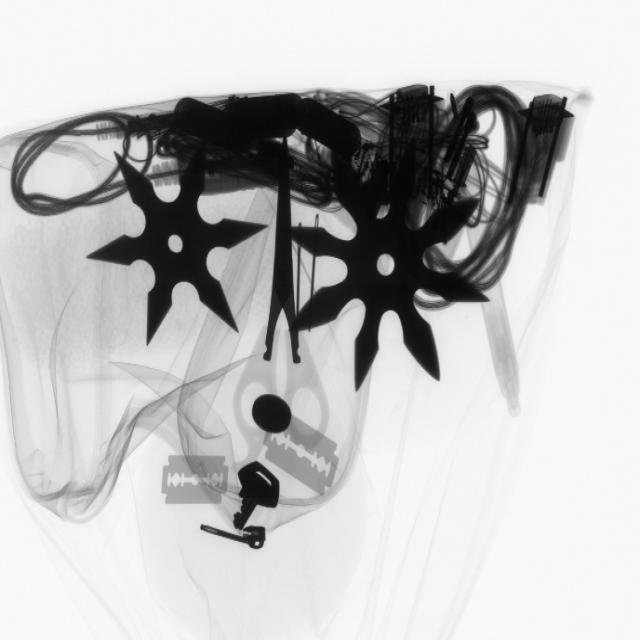BLADE: (256, 412, 343, 504), (157, 446, 237, 516)
SHURIKEN: (292, 144, 485, 392), (93, 146, 263, 350)
